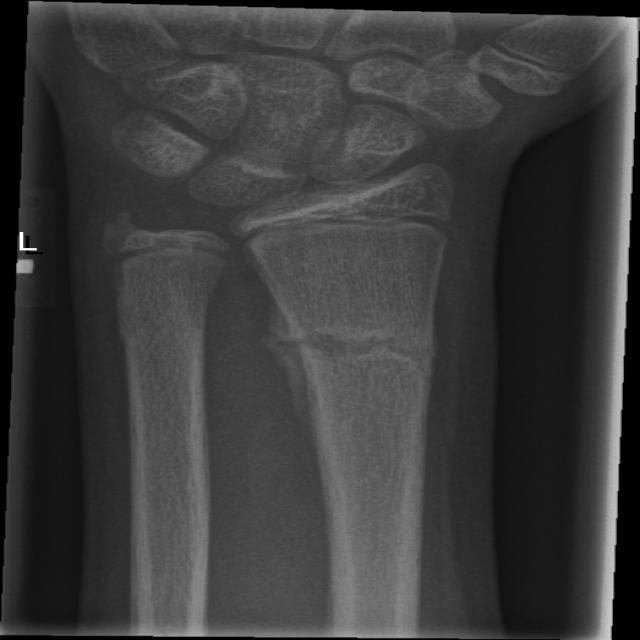radius fracture: (245, 292, 470, 450)
ulna fracture: (93, 208, 230, 364)
